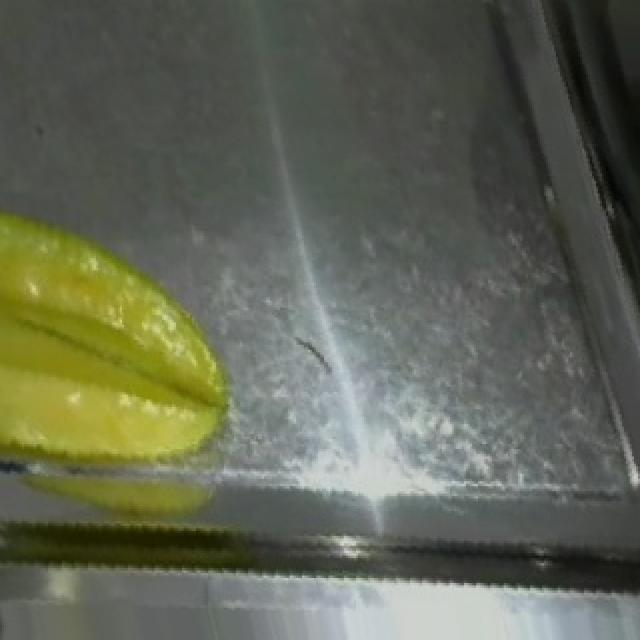fruit: (0, 184, 256, 518)
